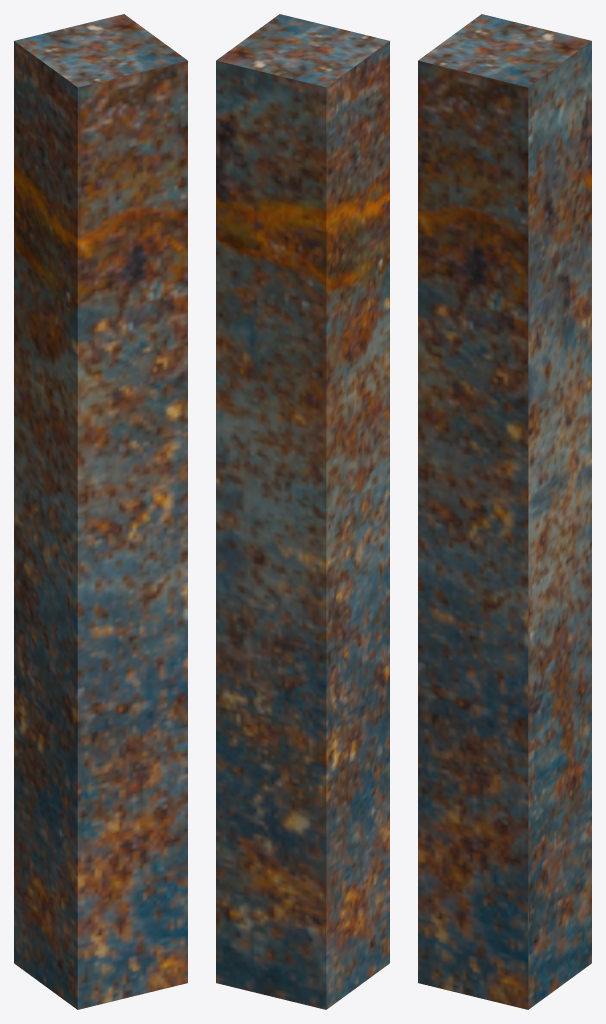
Rendered from filar.fbx.
3 views of the same model, side by side, from view 1: azimuth 30°, elevation 25°; view 2: azimuth 150°, elevation 25°; view 3: azimuth 330°, elevation 25° (orthographic).
Parts seen in each view (by area): view 1: Cube.005; view 2: Cube.005; view 3: Cube.005.
Boxes of the visible parts, x1=… form: Cube.005: x1=14, y1=14, x2=187, y2=1009; Cube.005: x1=216, y1=14, x2=389, y2=1009; Cube.005: x1=418, y1=14, x2=591, y2=1009.
Size of the model in its own units: 25 by 200 by 25.
